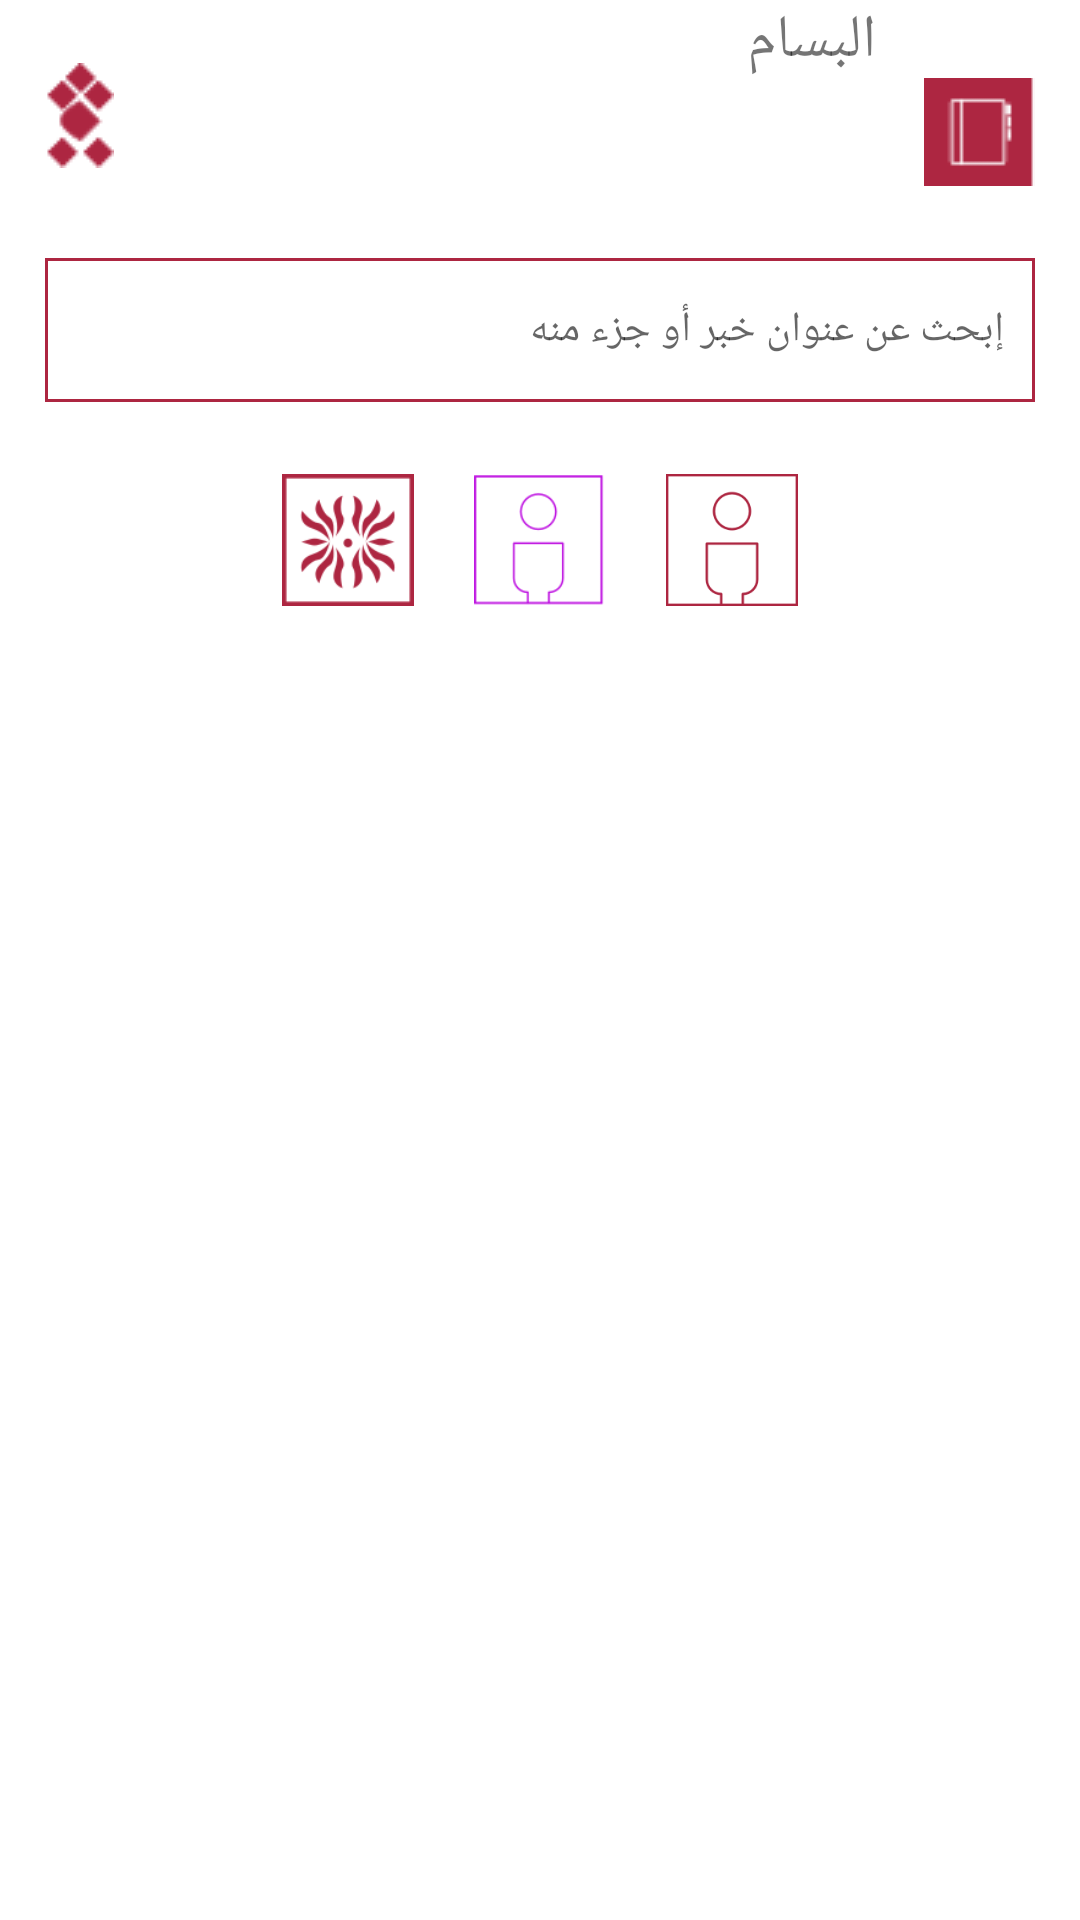

Icon click points for this 1080px×1920px phone screenshot, format (x=x, y=y):
daleel listing: (x=978, y=132)
female: (x=538, y=540)
